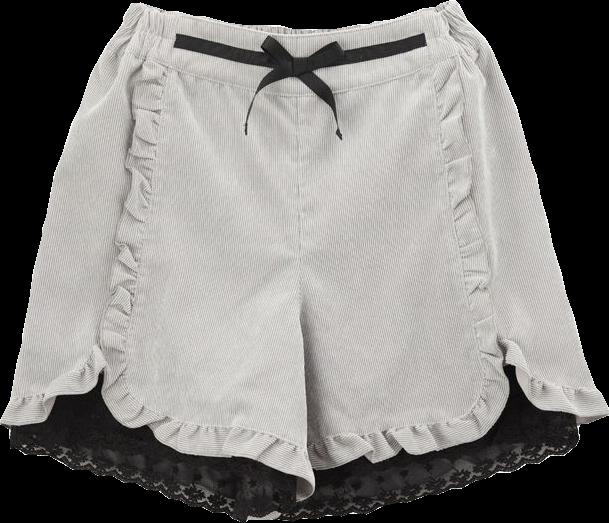Hemline: (99, 61, 320, 486), (314, 54, 511, 473), (5, 424, 320, 522), (298, 415, 591, 520), (500, 360, 608, 421), (0, 368, 106, 429)
Pantleg: (0, 2, 316, 522), (298, 0, 608, 519)
Waistline: (108, 37, 486, 94), (134, 0, 455, 32)
